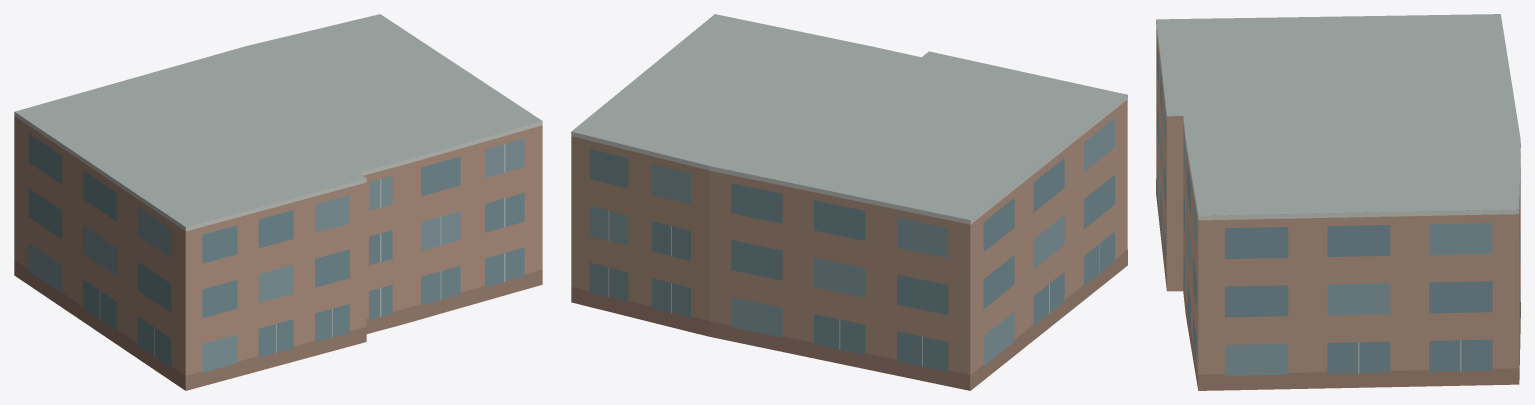
The model's file is survey-upis-32957180.glb.
3 views of the same model, side by side, from view 1: azimuth 30°, elevation 25°; view 2: azimuth 150°, elevation 25°; view 3: azimuth 270°, elevation 25° (orthographic). The views are drawn at different scales.
Visible parts, largest first — view 1: survey-upis-32957180.tmp; view 2: survey-upis-32957180.tmp; view 3: survey-upis-32957180.tmp.
Part boxes in pixels (x1=…): survey-upis-32957180.tmp: x1=14, y1=14, x2=542, y2=390; survey-upis-32957180.tmp: x1=571, y1=14, x2=1127, y2=390; survey-upis-32957180.tmp: x1=1156, y1=14, x2=1520, y2=390.
Bounding box in the file's own units: 22.61 × 9.15 × 17.27.
